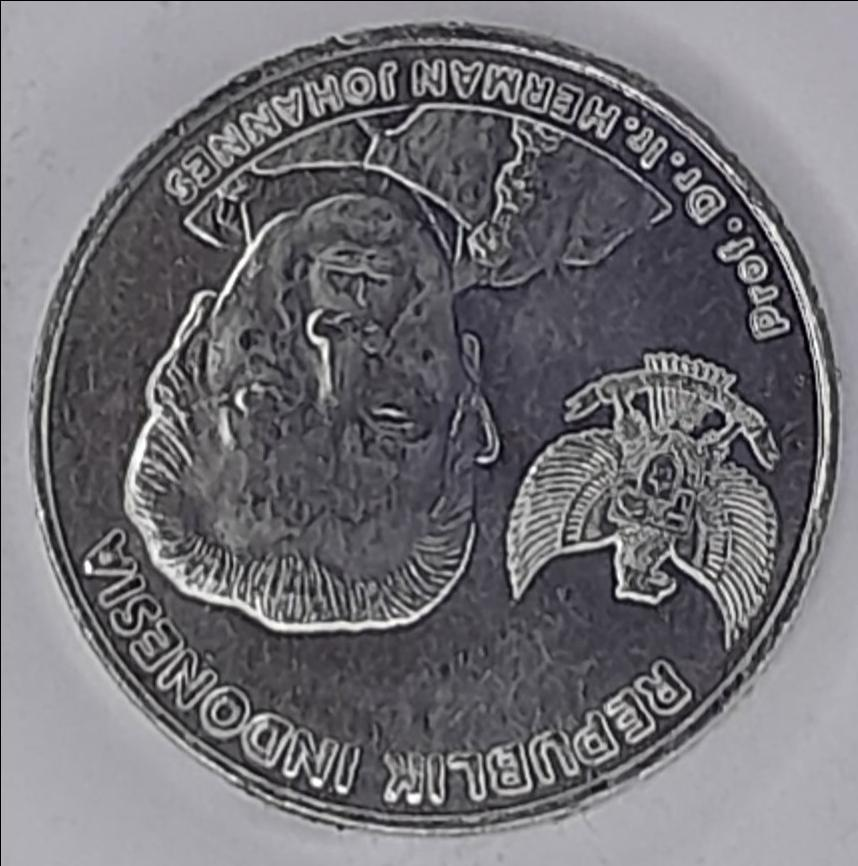coin_100_e2016: (23, 14, 846, 835)
